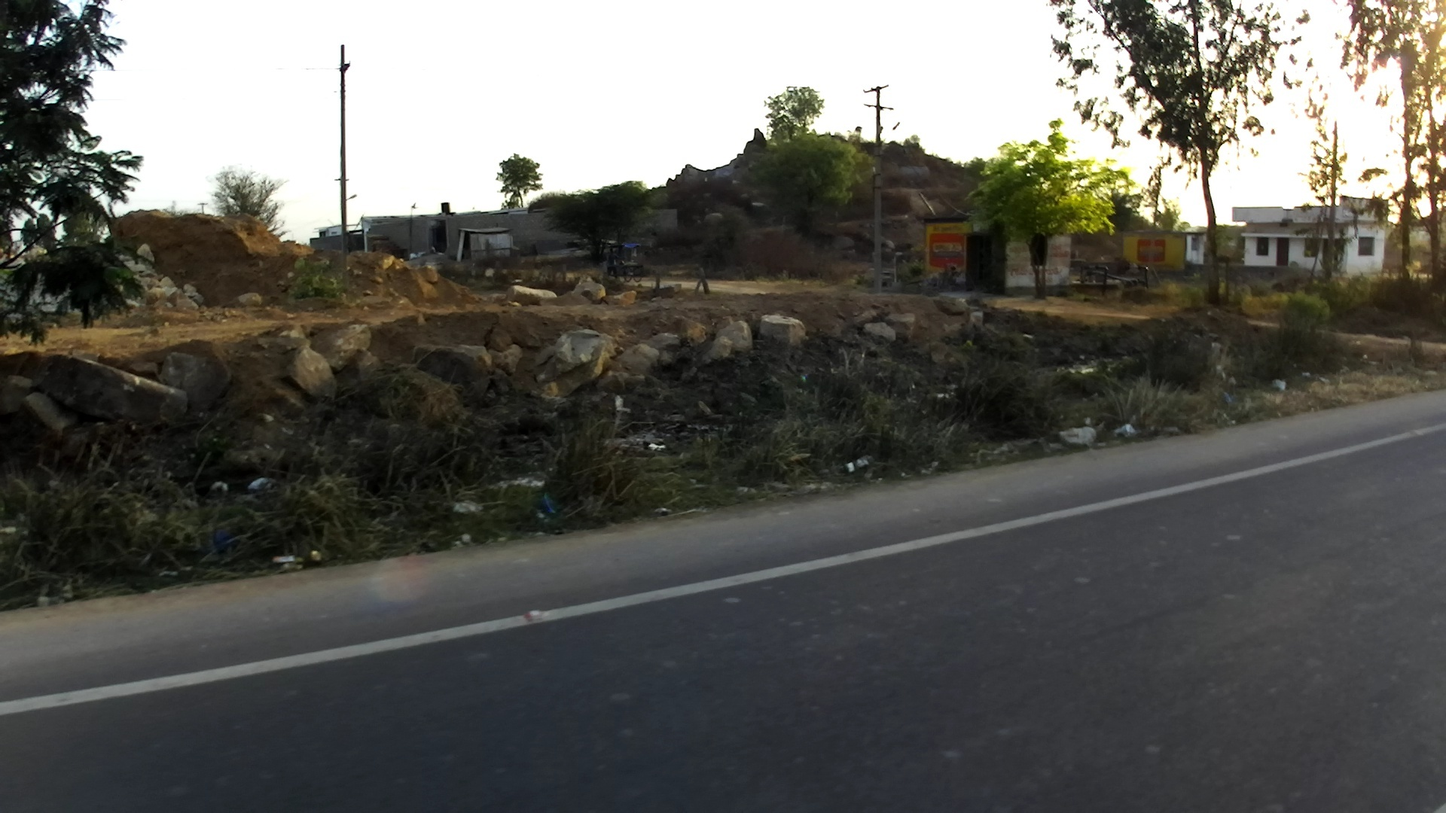person: (600, 248, 619, 279)
vehicle fallback: (606, 239, 646, 286)
